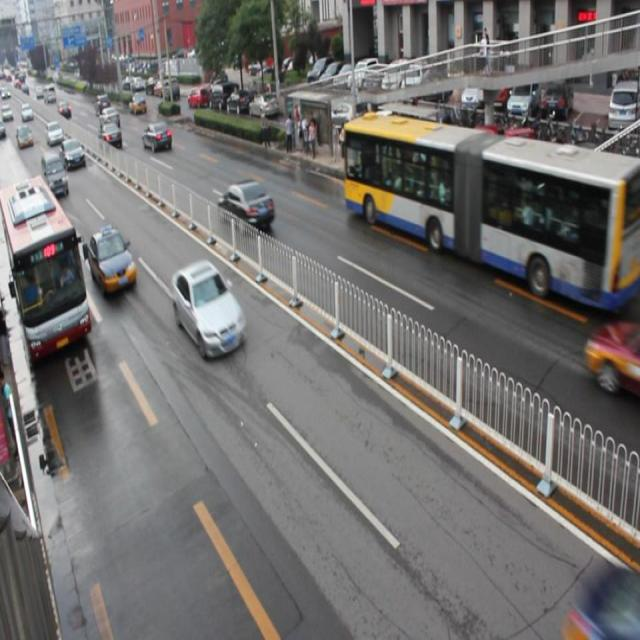car: (172, 260, 245, 359), (586, 318, 640, 403), (88, 224, 137, 295), (218, 180, 274, 230), (142, 123, 172, 151), (62, 138, 85, 170)
truck: (42, 149, 68, 197)
van: (342, 109, 640, 313), (1, 178, 92, 361)
